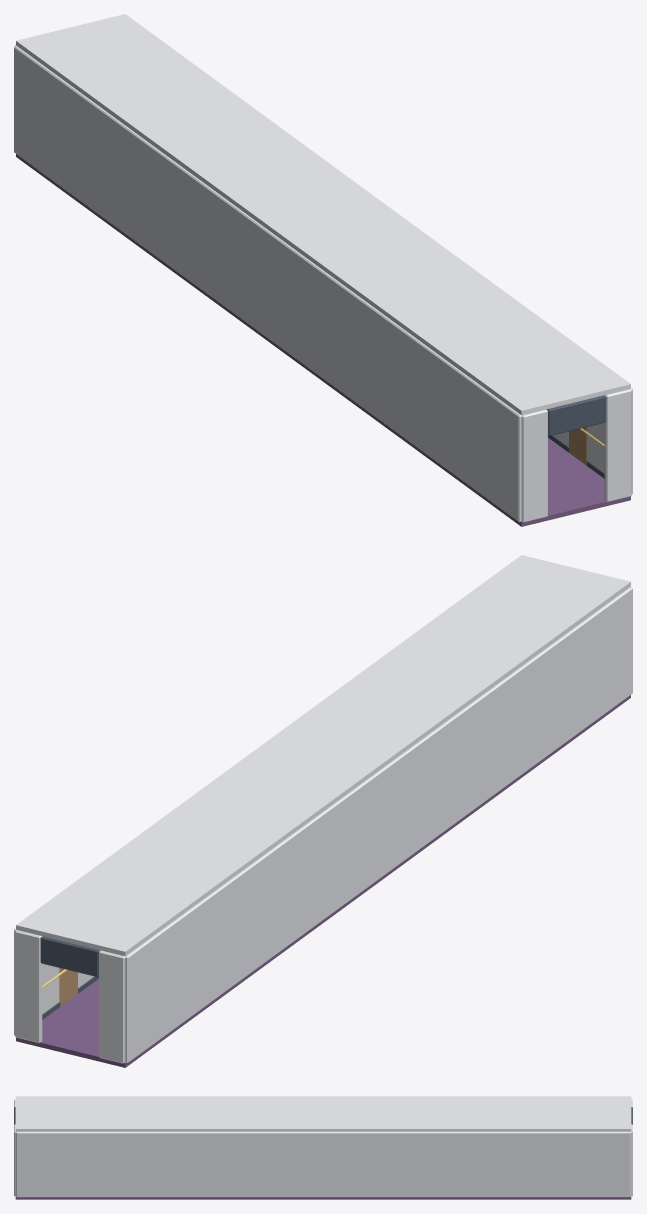
The model's file is cabin-corridor-a.glb.
3 renders of one model, top to bottom at view 1: azimuth 30°, elevation 25°; view 2: azimuth 150°, elevation 25°; view 3: azimuth 270°, elevation 25°, orthographic. The views are drawn at different scales.
Visible parts, largest first — view 1: CM_BULKHEAD, CM_CARPET, CM_TRIM; view 2: CM_BULKHEAD, CM_CARPET, CM_TRIM; view 3: CM_BULKHEAD, CM_CARPET.
Part boxes in pixels (x1,y1,x2,y2): CM_BULKHEAD: (14, 14, 632, 522); CM_CARPET: (16, 154, 630, 526); CM_TRIM: (546, 395, 606, 478); CM_BULKHEAD: (14, 555, 632, 1063); CM_CARPET: (16, 695, 630, 1067); CM_TRIM: (40, 936, 100, 1019); CM_BULKHEAD: (14, 1096, 632, 1197); CM_CARPET: (15, 1197, 631, 1199).
Size of the model in its own units: 3.14 by 3.04 by 24.14.
